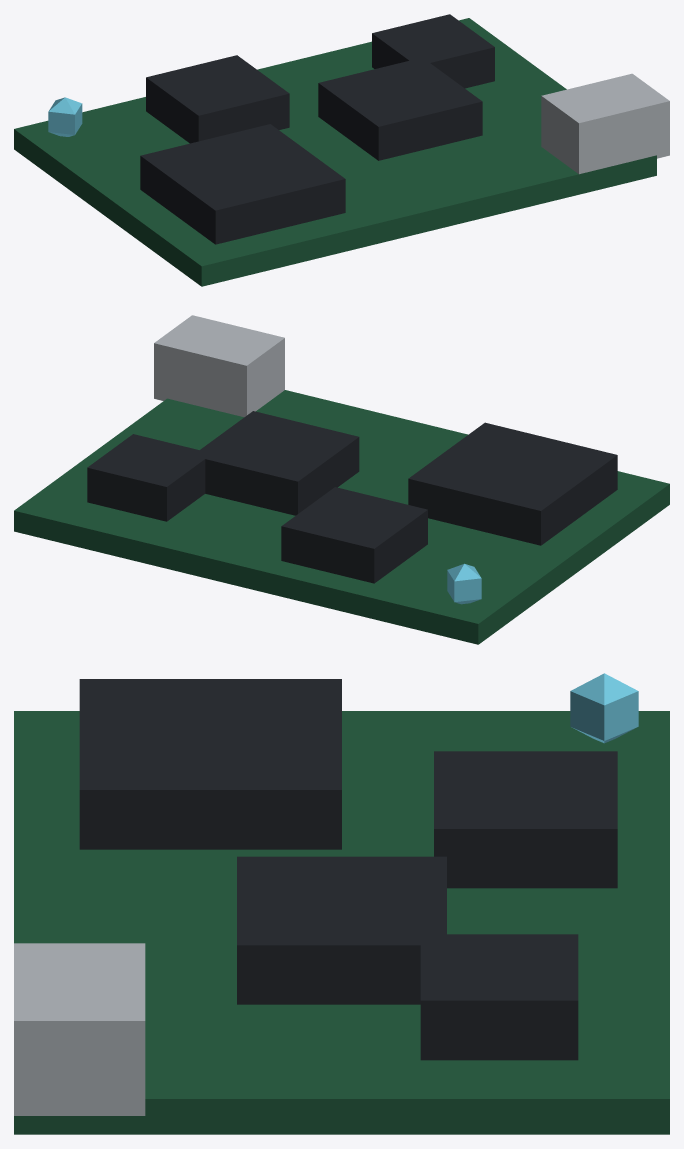
The model's file is mod-board.lod.glb.
3 views of the same model, one above another, from view 1: azimuth 30°, elevation 25°; view 2: azimuth 150°, elevation 25°; view 3: azimuth 270°, elevation 25° (orthographic). The views are drawn at different scales.
Parts seen in each view (by area): view 1: m; view 2: m; view 3: m.
Boxes of the visible parts, left/top/right/bottom form: m: left=14, top=14, right=669, bottom=286; m: left=14, top=315, right=669, bottom=644; m: left=14, top=673, right=669, bottom=1134.
Size of the model in its own units: 0.07 by 0.0102 by 0.0486.
